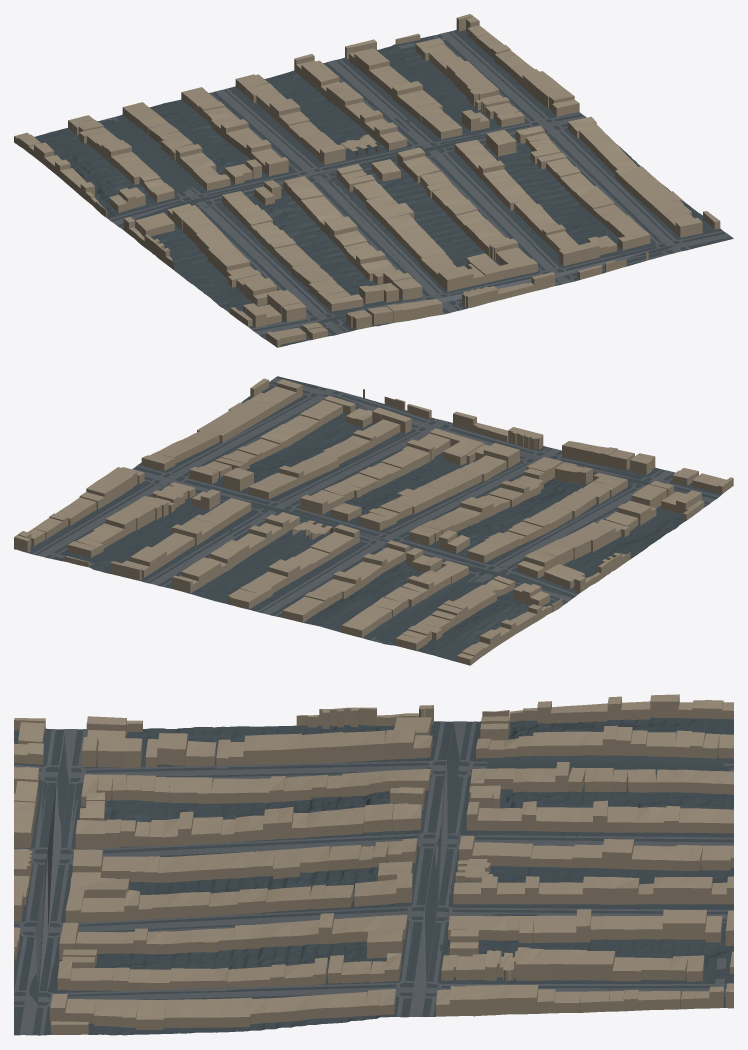
File: epsg26910-1420-10882.lod0.glb
3 views of the same model, one above another, from view 1: azimuth 30°, elevation 25°; view 2: azimuth 150°, elevation 25°; view 3: azimuth 270°, elevation 25° (orthographic). The views are drawn at different scales.
Visible parts, largest first — view 1: epsg26910-1420-10882-lod0; view 2: epsg26910-1420-10882-lod0; view 3: epsg26910-1420-10882-lod0.
Boxes of the visible parts, x1,y1,x2,y2 form: epsg26910-1420-10882-lod0: (14,14,733,347); epsg26910-1420-10882-lod0: (14,376,733,665); epsg26910-1420-10882-lod0: (14,694,733,1035).
Size of the model in its own units: 384 by 29.9 by 384.
